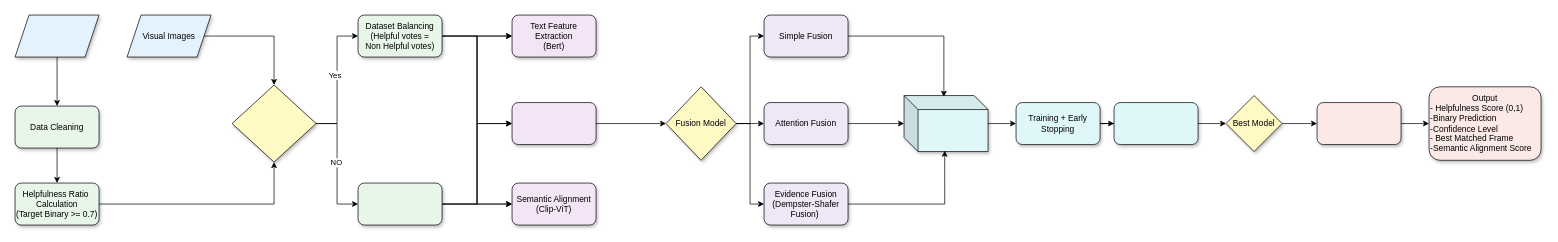
This 1558x242 diagram has some shape labels left out. Here are the shapes that lost their labels. From the top down, the centre of each, then its label:
At (57,37): "Raw IMDB Dataset".
At (274,124): "Dataset".
At (554,124): "Visual Feature Extraction (ViT)".
At (946,124): "Classification Head".
At (1156,124): "Evaluation Accuracy,F1,AUC, MAP,NDCG".
At (1359,124): "Inference New Review Prediction".
At (400,205): "Unbalanced Dataset".
